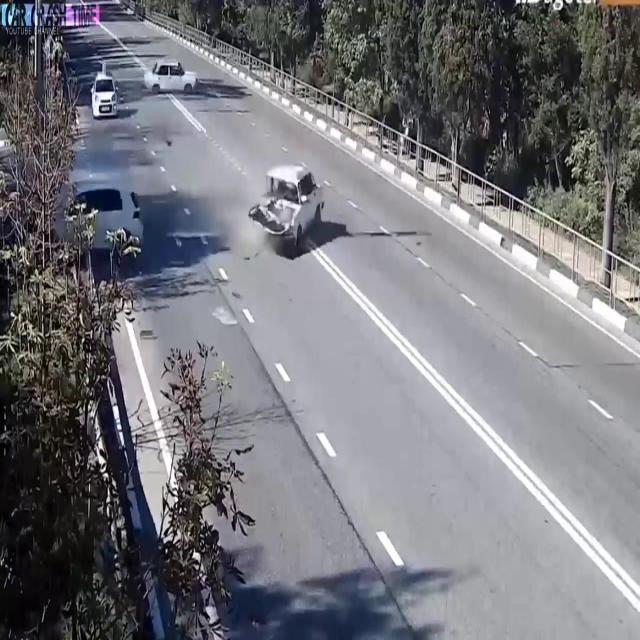accident: (0, 156, 153, 282), (232, 143, 332, 273)
